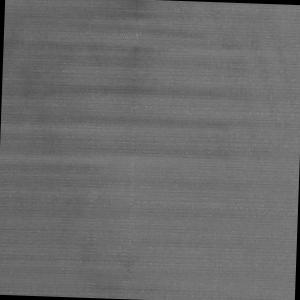Wrinkle: (1, 74, 300, 177)
